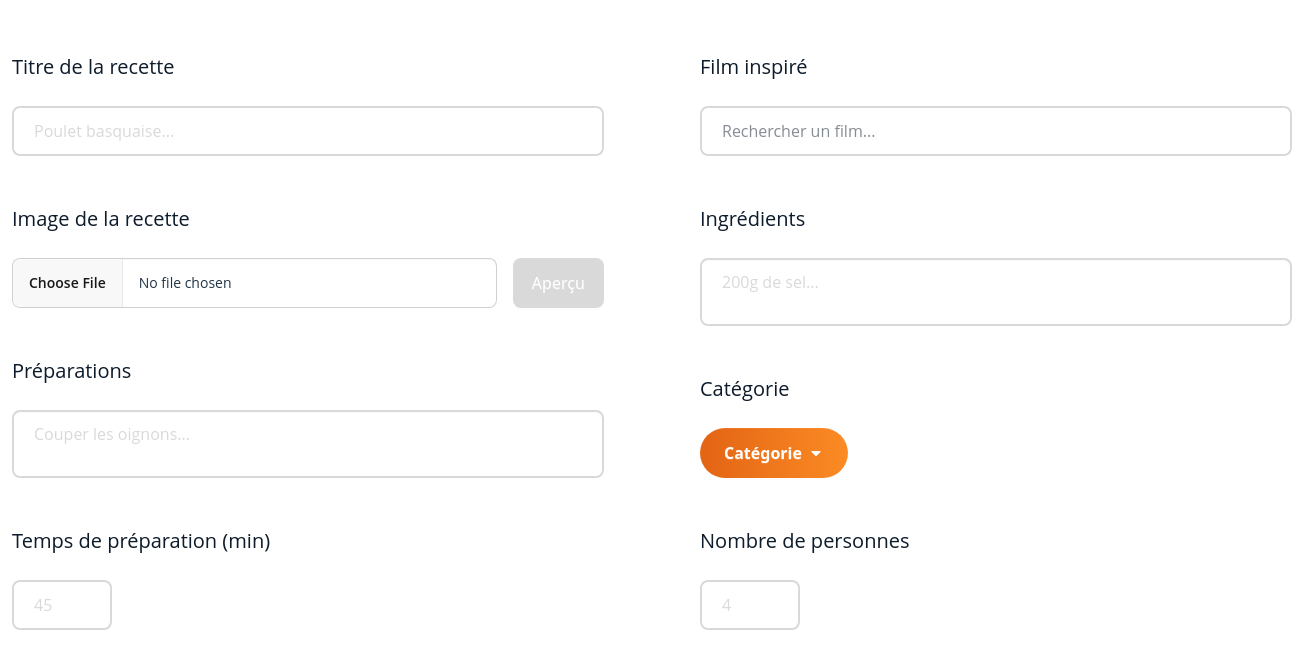
Add Recipe Form › should not submit if the recipe title is shorter than 10 characters
Type "Poulet" into the field labelled "Titre de la recette".
click(308, 131); type("Poulet")  # box [12,106,604,156]
(page scrolled)
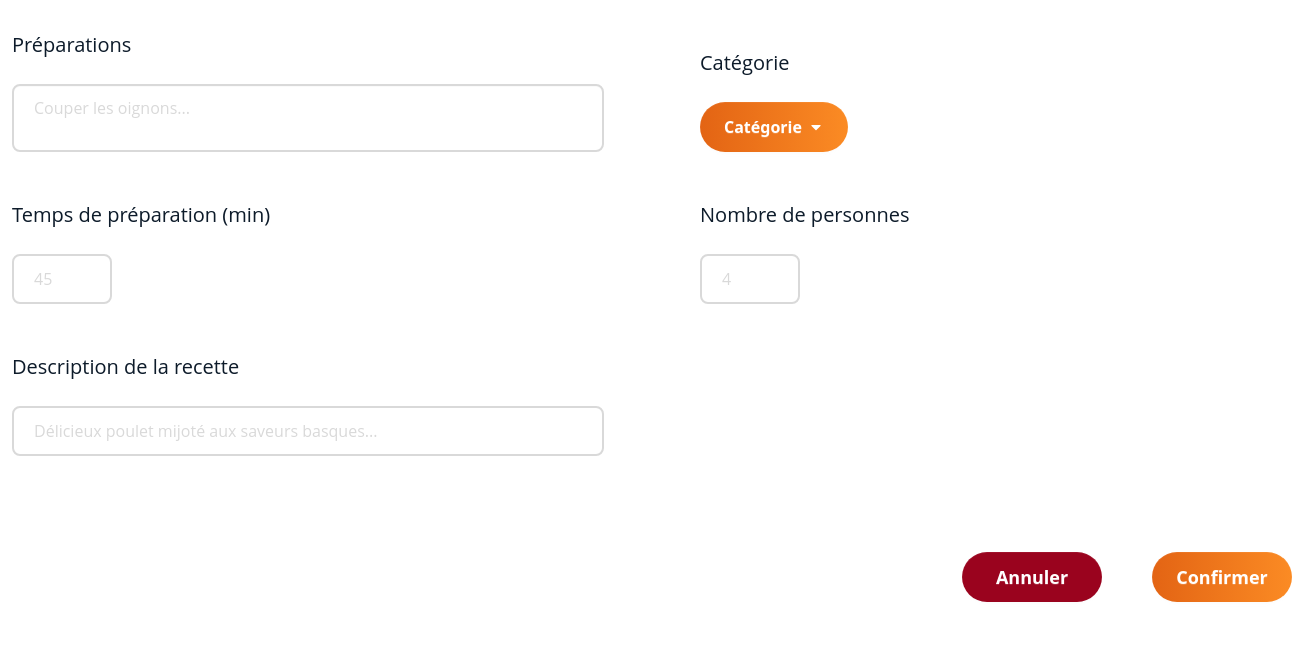
Click the button "Confirmer".
click(1222, 577)  # box [1152,552,1292,602]
(page scrolled)
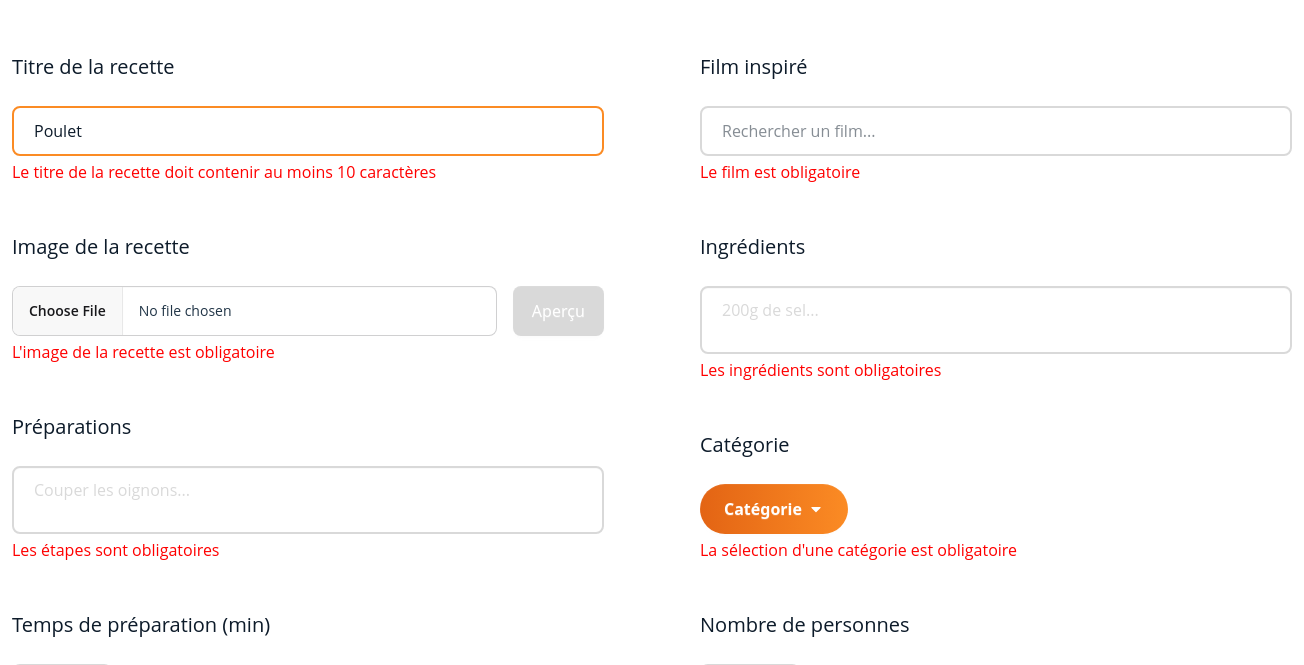
Check: the message "Le titre de la recette doit contenir au moins 10 caractères" is shown, box [12,161,436,183]
